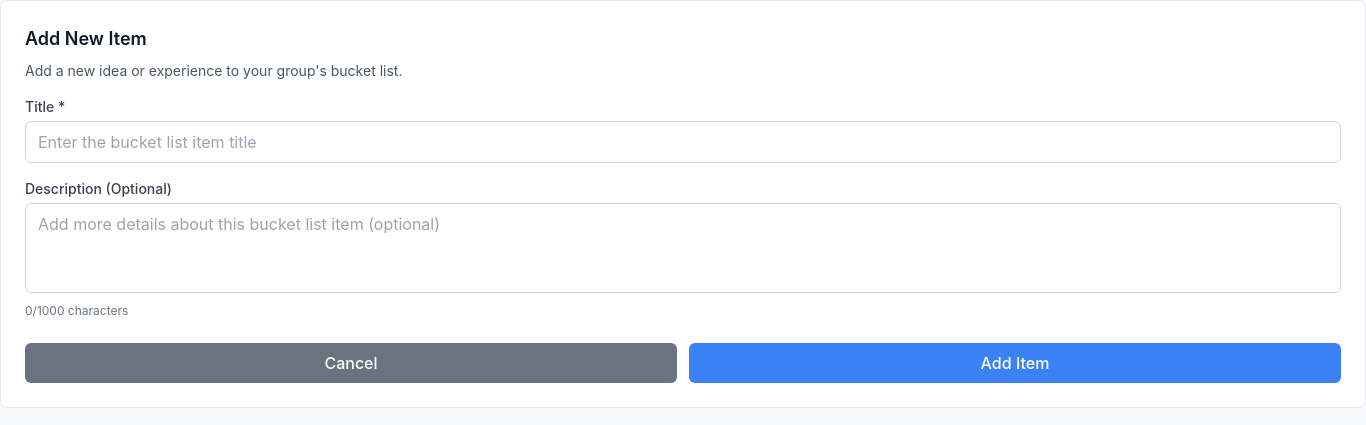
Test: AddItemForm › shows character count for description
Expected: the text "0/1000 characters" is shown, [25,303,128,318]
Step 1. Type "Hello world" into the text box labelled "Description (Optional)" → x=683, y=248, box [25,203,1341,293]
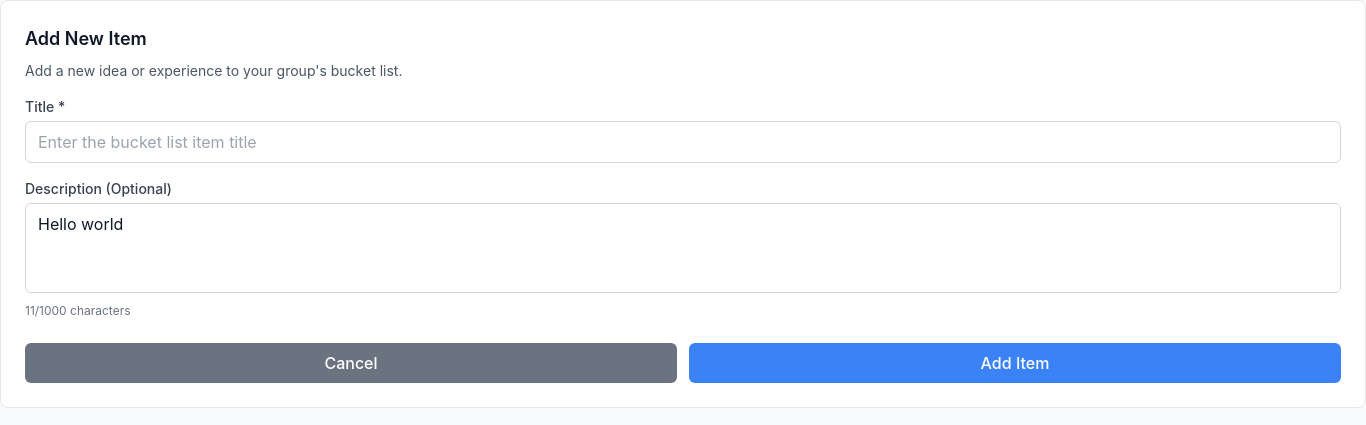
Result: the text "11/1000 characters" is shown at [25,303,130,318]
